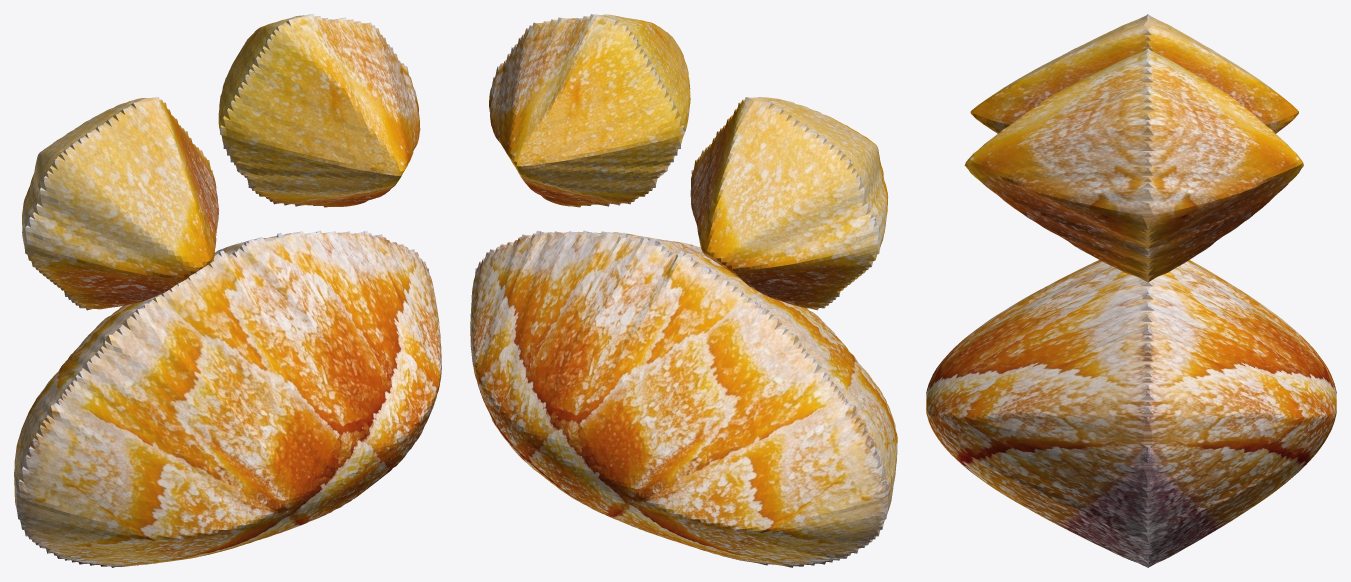
Rendered from mango.glb.
3 renders of one model, left to right at view 1: azimuth 30°, elevation 25°; view 2: azimuth 150°, elevation 25°; view 3: azimuth 270°, elevation 25°, orthographic. The views are drawn at different scales.
Parts seen in each view (by area): view 1: Mango; view 2: Mango; view 3: Mango.
Boxes of the visible parts, x1,y1,x2,y2 form: Mango: [14, 14, 441, 567]; Mango: [470, 14, 897, 567]; Mango: [926, 14, 1336, 567].
Bounding box in the file's own units: 1.35 × 1.58 × 1.11.
1 material, 1 textured.
